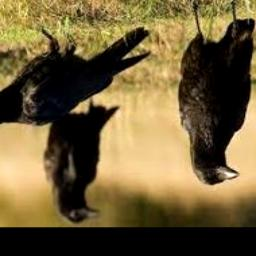Crow: (0, 26, 151, 127), (178, 0, 255, 186), (44, 95, 120, 224)
